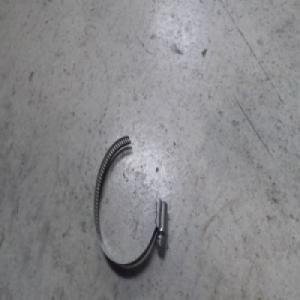AdjustableClamp: (94, 135, 168, 265)
